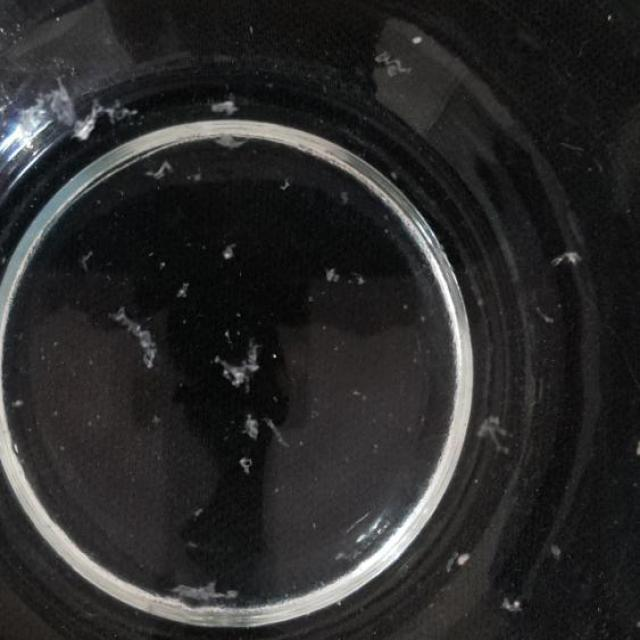fiber: (50, 90, 146, 142), (109, 301, 156, 370), (212, 336, 263, 386), (174, 579, 240, 616), (476, 415, 511, 460), (376, 49, 412, 83), (264, 416, 293, 452), (552, 244, 582, 272), (147, 160, 175, 184), (208, 94, 238, 116), (450, 549, 470, 577), (218, 134, 248, 150), (502, 595, 524, 616), (324, 266, 342, 291), (532, 304, 555, 322), (80, 249, 94, 275), (222, 240, 236, 265), (187, 166, 204, 186), (246, 415, 259, 441), (353, 382, 367, 403), (239, 457, 255, 475), (550, 543, 566, 561), (176, 284, 191, 302), (354, 272, 366, 291), (185, 536, 201, 550), (338, 190, 349, 208), (12, 395, 26, 409), (412, 34, 426, 48), (280, 176, 292, 192), (191, 508, 209, 518), (604, 12, 617, 22), (271, 349, 279, 363), (152, 413, 161, 422)
